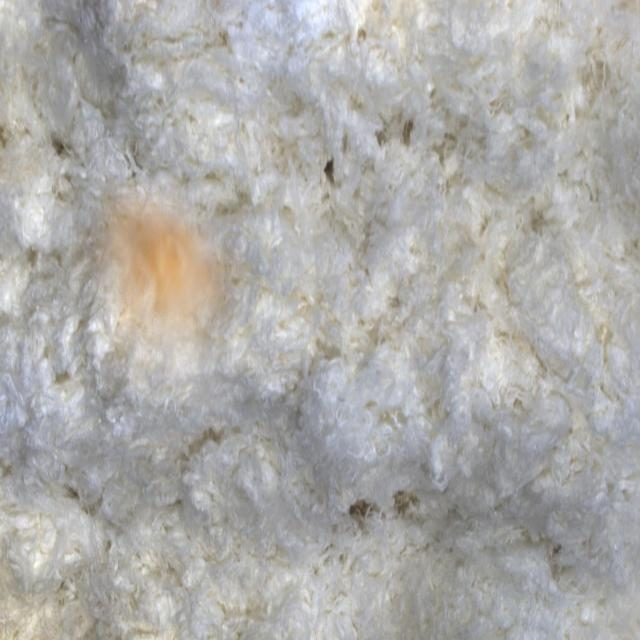dust: (72, 179, 248, 406)
